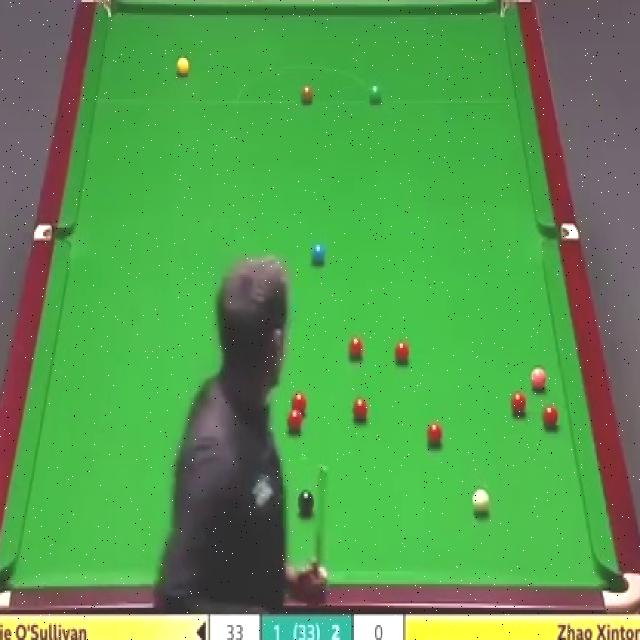black-ball: (296, 489, 314, 515)
blue-ball: (312, 244, 325, 268)
brown-ball: (301, 86, 314, 105)
green-ball: (369, 84, 382, 105)
pink-ball: (530, 366, 548, 393)
red-ball: (540, 403, 560, 430), (394, 338, 411, 365), (353, 398, 369, 424), (510, 393, 527, 416), (425, 423, 442, 446), (286, 409, 303, 431), (349, 338, 364, 362), (291, 394, 308, 414)
white-ball: (471, 486, 490, 516)
yellow-ball: (176, 58, 191, 80)
